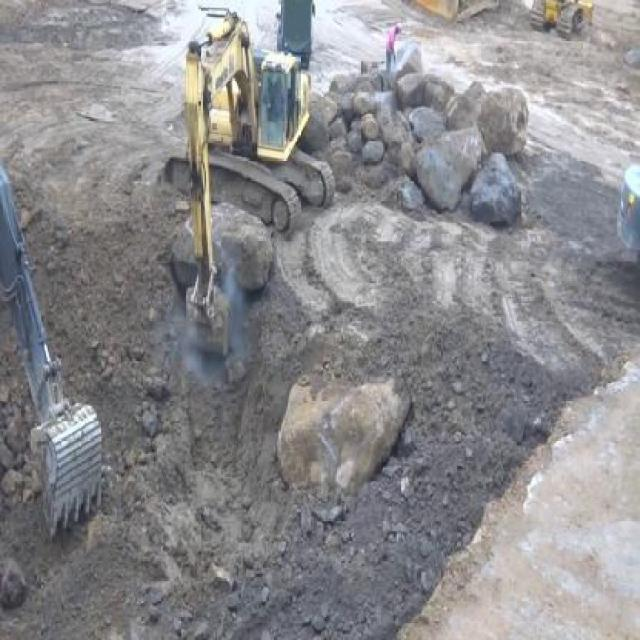Excavator: (162, 5, 336, 358), (0, 158, 105, 540)
